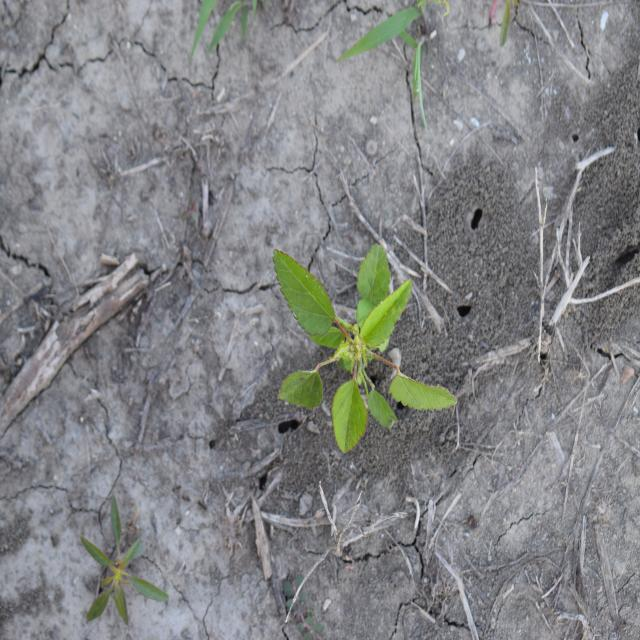PricklySida: (271, 240, 459, 456)
Waterhemp: (79, 495, 170, 627)
